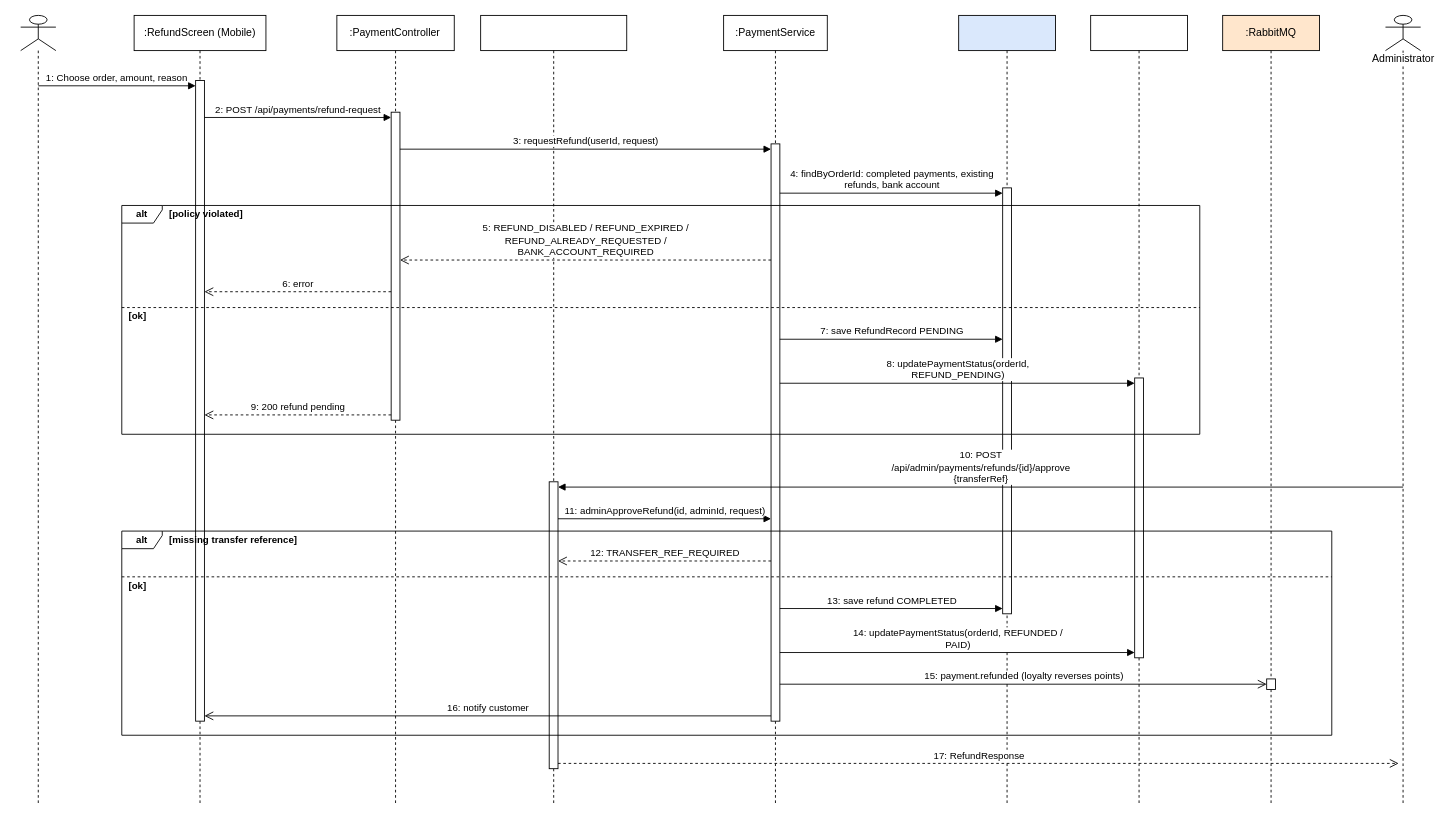
The diagram is 1449 pixels wide and 819 high, and some of its shapes have lost their labels. The shapes that lost their labels are listed below. From the top down, each one's box as (x1, y1, x2, y2) in pixels, then its label:
(20, 15, 56, 804): Customer
(480, 15, 627, 804): :AdminPaymentController
(958, 15, 1055, 804): :payment_db
(1090, 15, 1187, 804): :OrderClient
